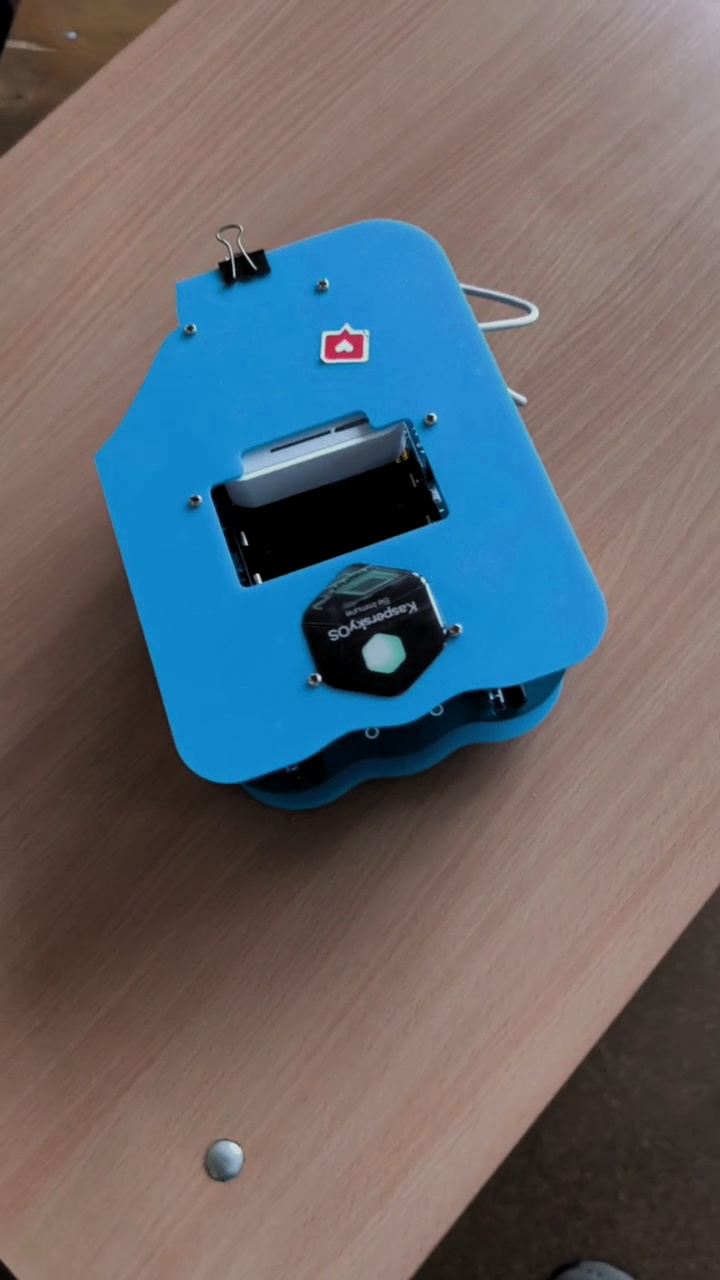robot: (91, 213, 612, 814)
